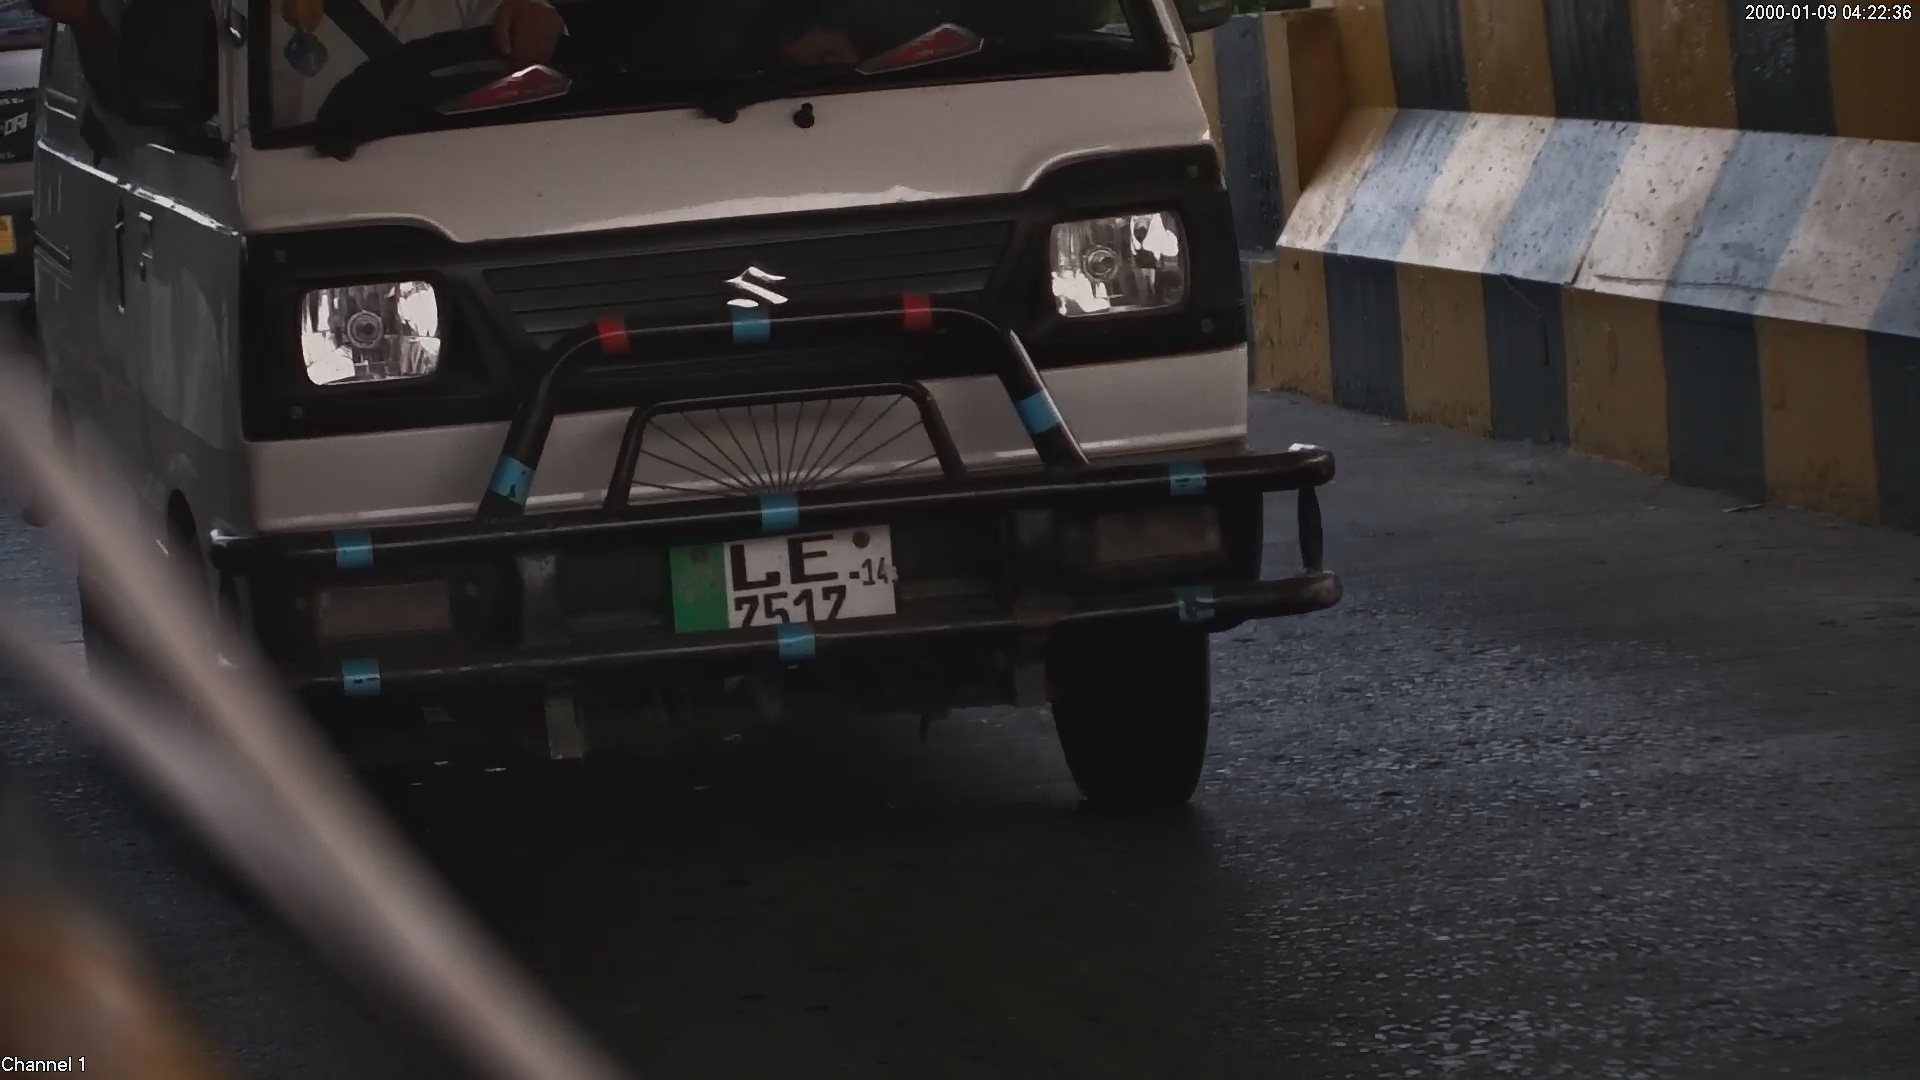Number_Plate: (654, 505, 930, 657)
Undefined: (254, 257, 467, 388), (1019, 190, 1210, 331), (297, 544, 467, 664), (1078, 481, 1252, 581), (704, 253, 802, 329)
